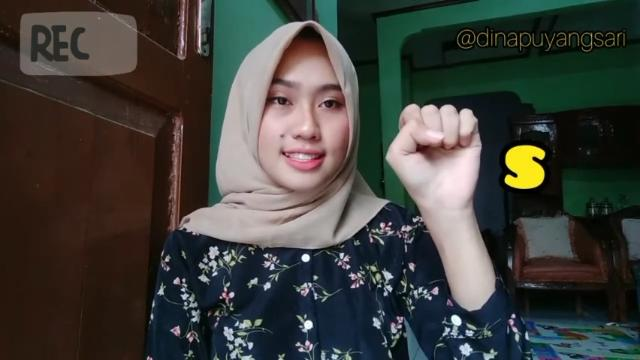S: (382, 96, 496, 206)
